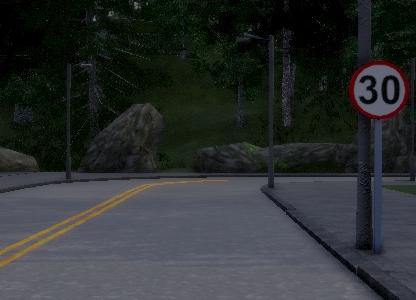Speed_30: (343, 59, 409, 123)
